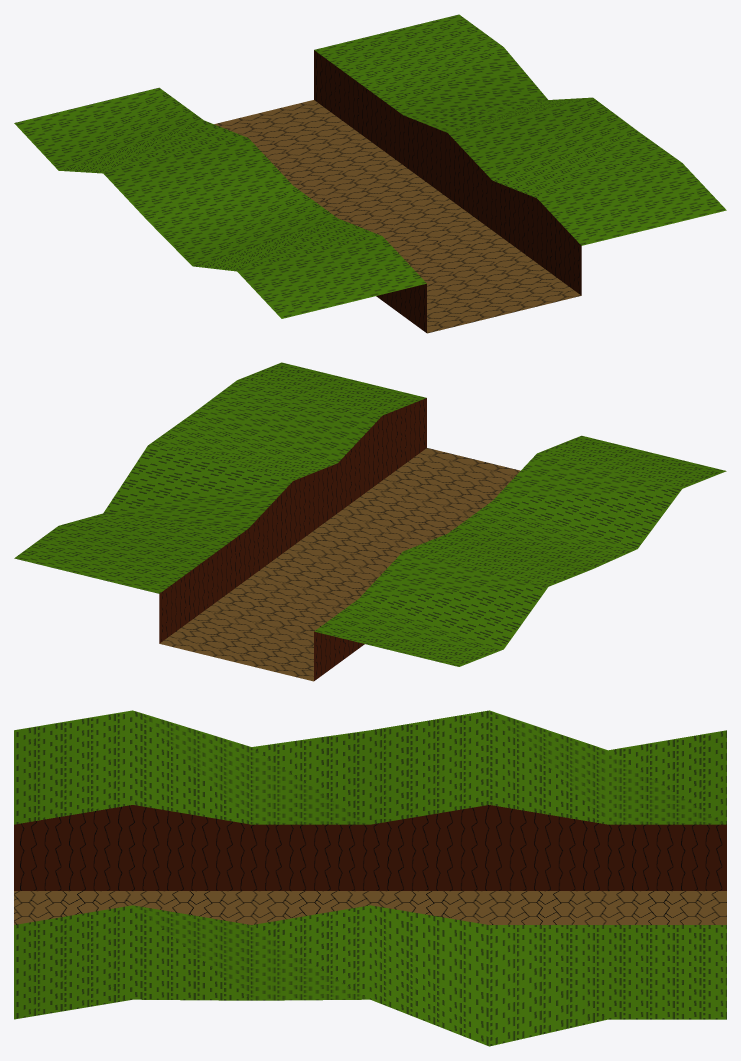
Rendered from Grund.fbx.
3 views of the same model, one above another, from view 1: azimuth 30°, elevation 25°; view 2: azimuth 150°, elevation 25°; view 3: azimuth 270°, elevation 25° (orthographic). The views are drawn at different scales.
Parts seen in each view (by area): view 1: Grund; view 2: Grund; view 3: Grund.
Part boxes in pixels (x1,y1,x2,y2): Grund: (14, 14, 726, 333); Grund: (14, 362, 726, 681); Grund: (14, 710, 726, 1046).
Size of the model in its own units: 1152 by 160 by 1200.
